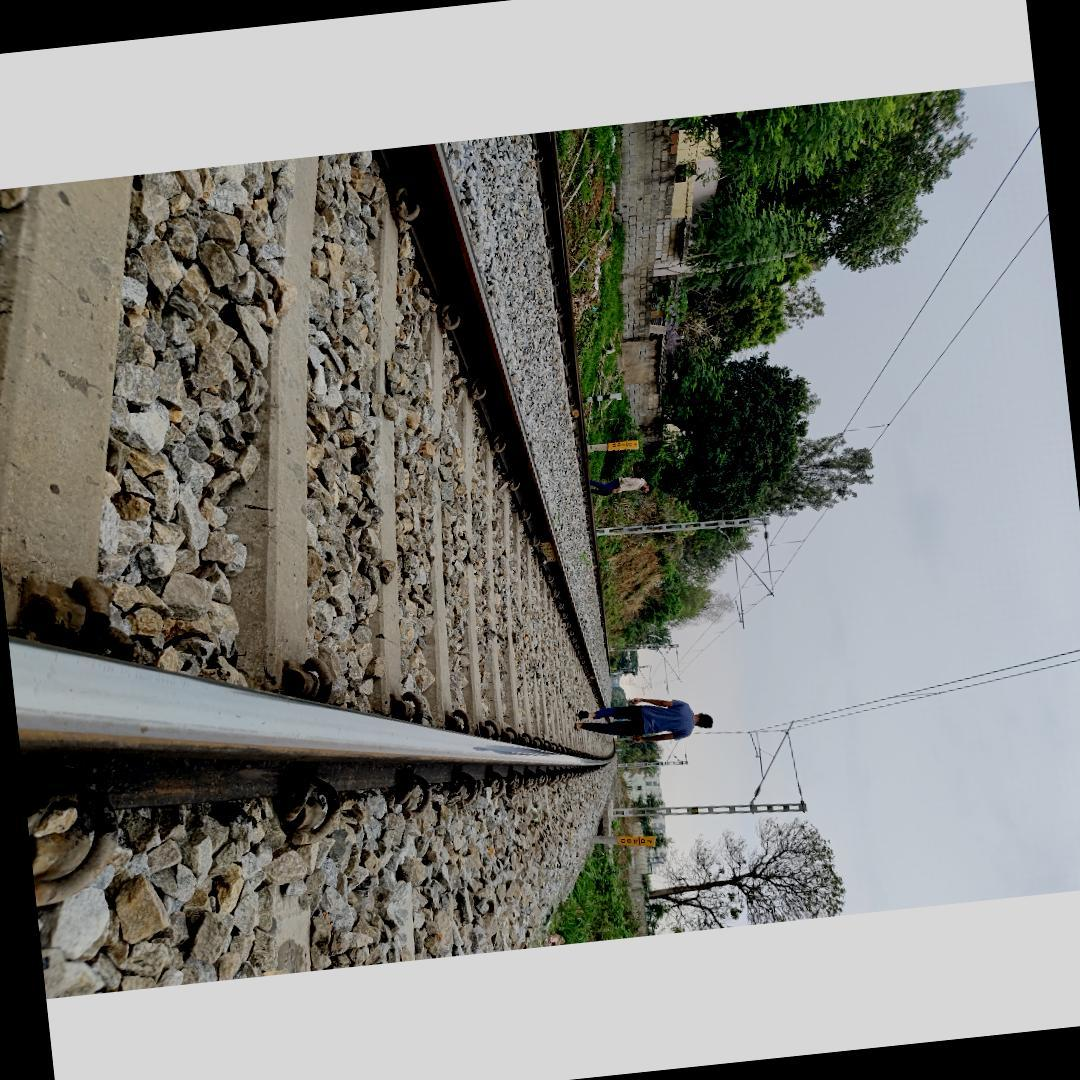standing: (572, 690, 715, 752), (588, 473, 653, 502)
track: (0, 144, 615, 878)
